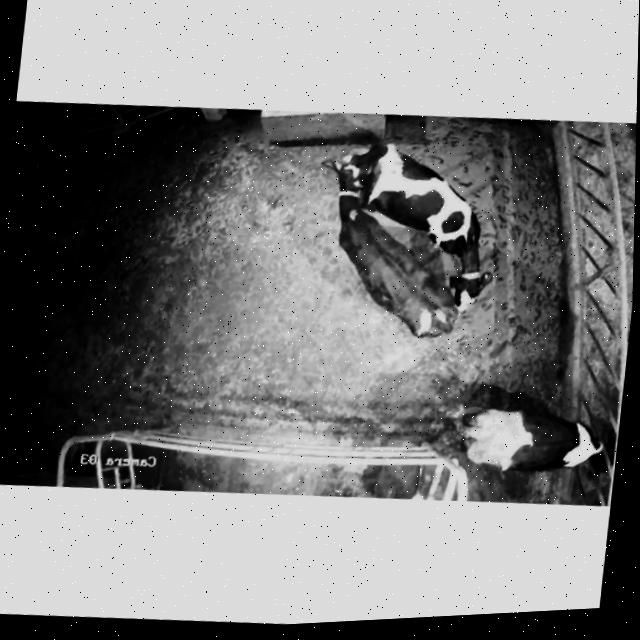propping: (303, 122, 414, 232)
